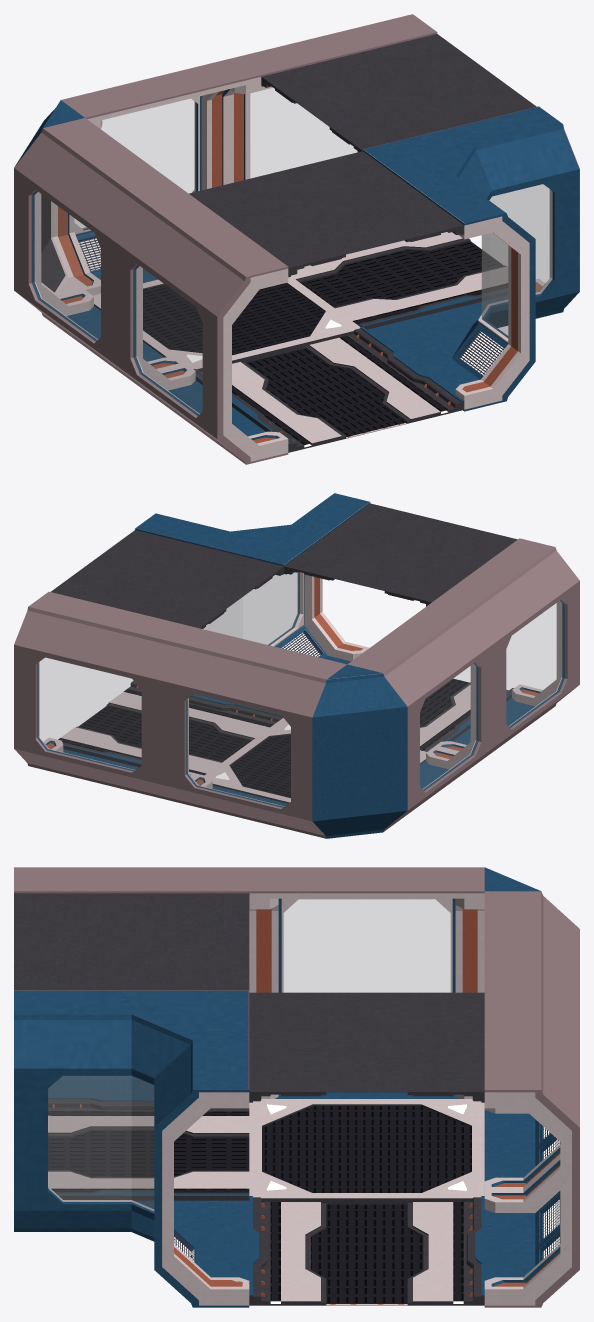
3 renders of one model, top to bottom at view 1: azimuth 30°, elevation 25°; view 2: azimuth 150°, elevation 25°; view 3: azimuth 270°, elevation 25°, orthographic. The views are drawn at different scales.
Parts seen in each view (by area): view 1: window_big_corner_plug_28, floor_2_no_lattice_LOD0_32, window_big_plug_18, floor_2_LOD0_9, floor_2_no_lattice_LOD0_2, window_big_plug_15, window_big_corner_LOD0_26, floor_2_LOD0_4, window_big_LOD0_11, window_big_corner_LOD1_27, window_big_LOD0_17, floor_5a_29 (+6 smaller); view 2: window_big_plug_7, window_big_plug_12, window_big_corner_far_plug (1)_23, floor_2_no_lattice_LOD0_32, floor_2_no_lattice_LOD0_2, window_big_plug_15, window_big_plug_18, window_big_LOD0_6, window_big_LOD0_11, floor_2_LOD0_4, window_big_corner_LOD0_26, window_big_corner_plug_28 (+5 smaller); view 3: window_big_corner_plug_28, window_big_LOD0_14, floor_2_no_lattice_LOD0_2, floor_2_LOD0_4, floor_5a_29, floor_2_no_lattice_LOD0_32, window_big_corner_LOD0_26, window_big_corner_LOD1_27, floor_2_LOD0_9, window_big_LOD0_6, window_big_plug_7, window_big_plug_12 (+5 smaller).
Part boxes in pixels (x1,y1,x2,y2): window_big_corner_plug_28: [363, 106, 579, 411]; floor_2_no_lattice_LOD0_32: [189, 151, 464, 277]; window_big_plug_18: [115, 192, 288, 464]; floor_2_LOD0_9: [193, 326, 464, 452]; floor_2_no_lattice_LOD0_2: [261, 34, 536, 152]; window_big_plug_15: [14, 118, 186, 389]; window_big_corner_LOD0_26: [373, 184, 552, 409]; floor_2_LOD0_4: [291, 232, 507, 329]; window_big_LOD0_11: [52, 77, 261, 295]; window_big_corner_LOD1_27: [367, 184, 552, 408]; window_big_LOD0_17: [133, 265, 288, 461]; floor_5a_29: [93, 276, 360, 371]; window_big_plug_7: [14, 591, 197, 802]; window_big_plug_12: [163, 628, 346, 838]; window_big_corner_far_plug (1)_23: [312, 664, 407, 838]; floor_2_no_lattice_LOD0_32: [284, 503, 517, 606]; floor_2_no_lattice_LOD0_2: [51, 530, 284, 628]; window_big_plug_15: [347, 601, 493, 831]; window_big_plug_18: [434, 538, 579, 768]; window_big_LOD0_6: [37, 658, 197, 777]; window_big_LOD0_11: [186, 694, 290, 807]; floor_2_LOD0_4: [58, 680, 283, 775]; window_big_corner_LOD0_26: [204, 572, 369, 664]; window_big_corner_plug_28: [135, 493, 370, 645]; window_big_corner_plug_28: [14, 990, 249, 1307]; window_big_LOD0_14: [249, 893, 484, 1098]; floor_2_no_lattice_LOD0_2: [249, 992, 484, 1102]; floor_2_LOD0_4: [249, 1196, 484, 1305]; floor_5a_29: [249, 1099, 484, 1204]; floor_2_no_lattice_LOD0_32: [14, 893, 249, 990]; window_big_corner_LOD0_26: [48, 1076, 249, 1305]; window_big_corner_LOD1_27: [48, 1076, 249, 1303]; floor_2_LOD0_9: [48, 1096, 249, 1200]; window_big_LOD0_6: [484, 1092, 571, 1305]; window_big_plug_7: [484, 990, 579, 1307]; window_big_plug_12: [484, 891, 579, 1027].
Size of what is drawn, in the model's own units: 9.62 by 4.08 by 9.62.
Materials: 5 (3 with a texture image).
